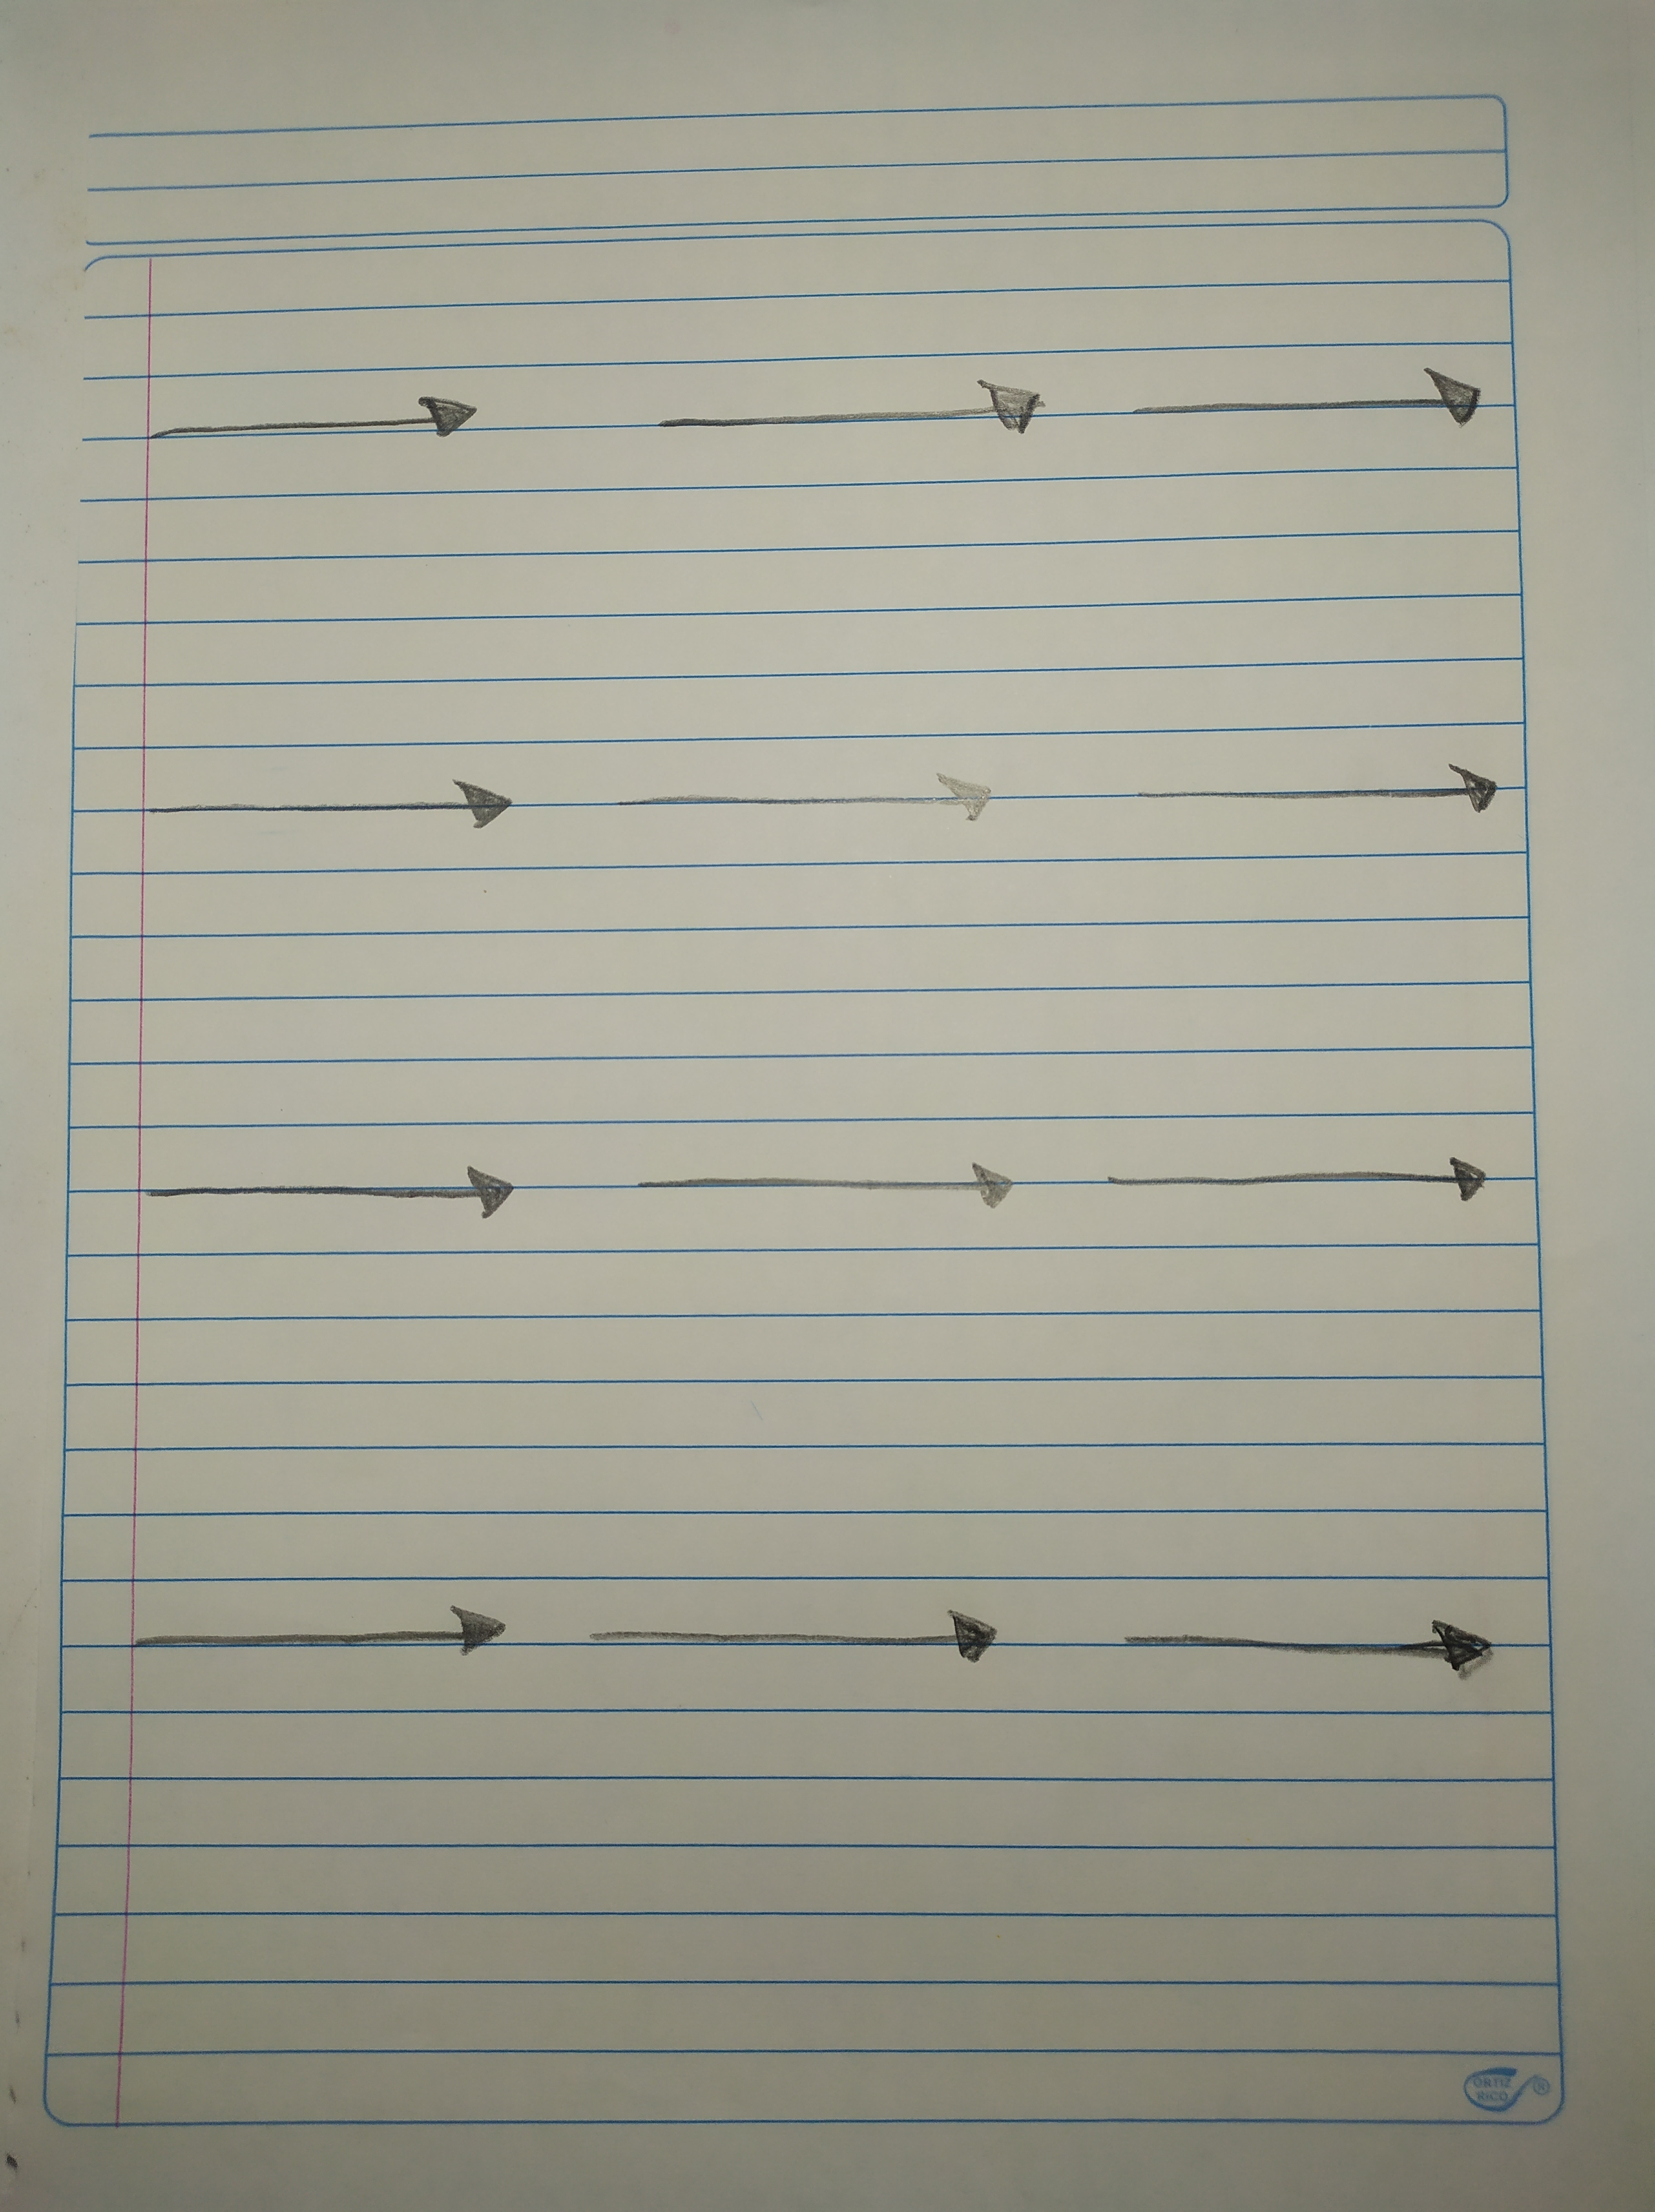arrow_line_right: (1092, 1583, 1540, 1701), (600, 1131, 1038, 1244), (125, 737, 530, 855), (1095, 342, 1523, 454), (577, 1597, 1059, 1692), (1081, 1131, 1523, 1232), (111, 1156, 544, 1258), (1095, 740, 1525, 843), (570, 756, 1036, 850), (118, 1590, 544, 1684), (628, 370, 1059, 460), (134, 382, 508, 462)
